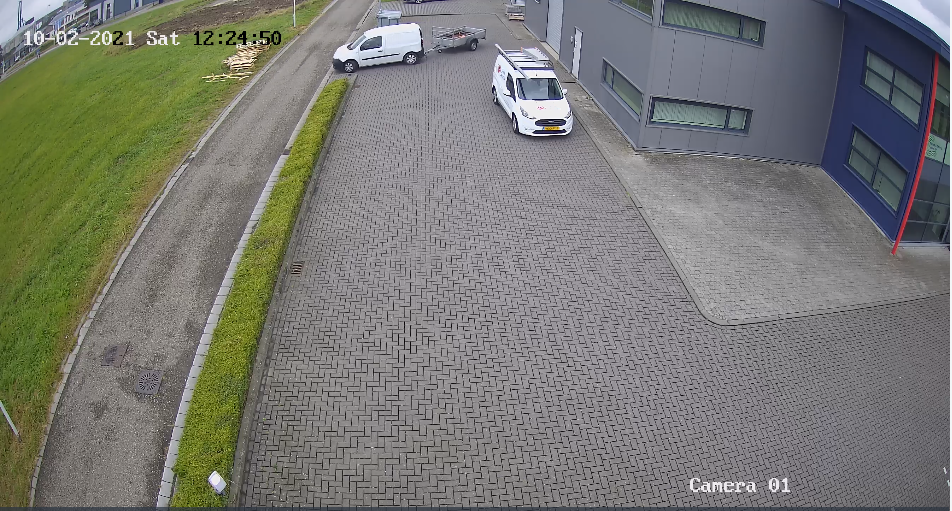werkbus: (484, 37, 588, 149), (319, 17, 430, 82)
